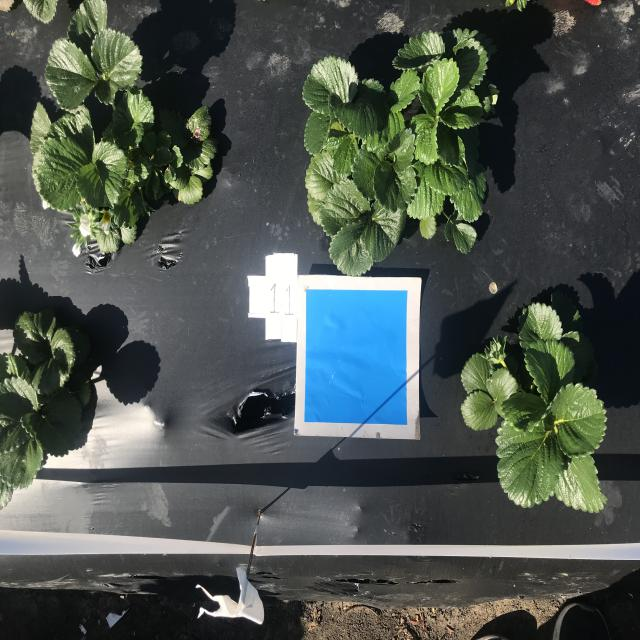Flower: (99, 207, 113, 232)
